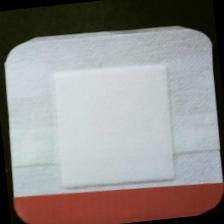Dressing: (1, 15, 224, 224)
Red_T: (9, 173, 224, 224)
